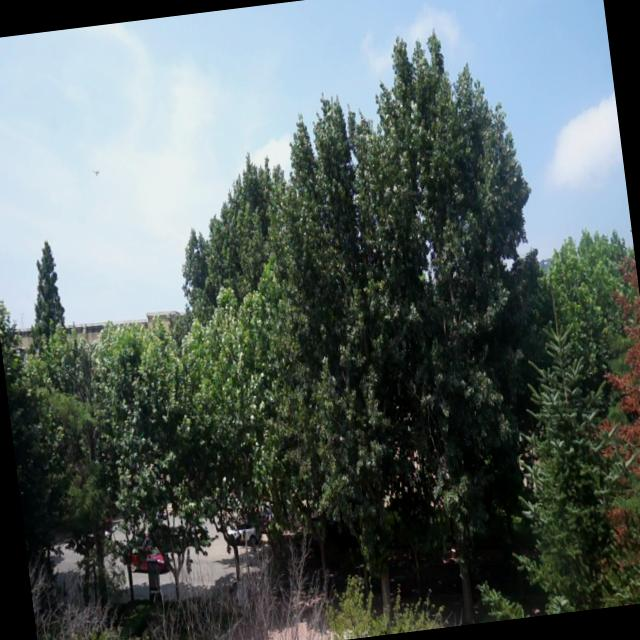drone: (88, 162, 102, 180)
